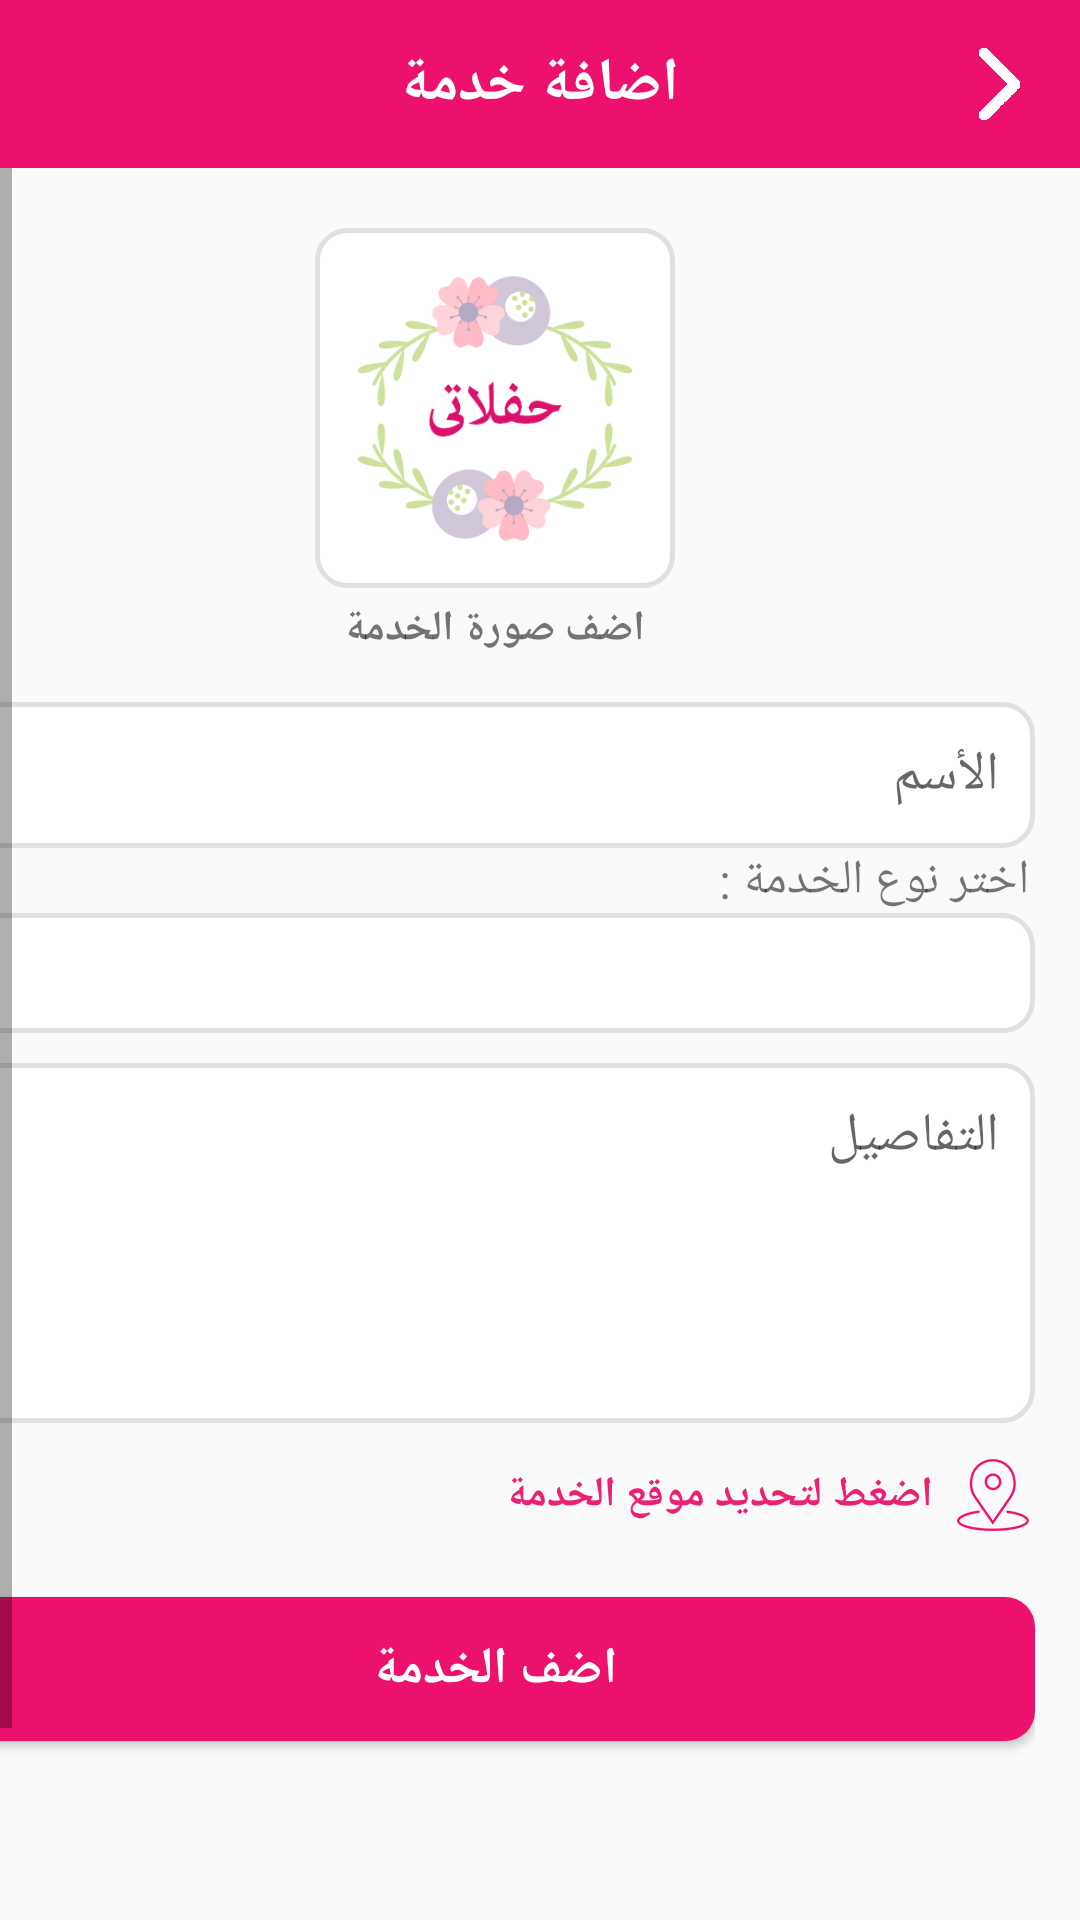

Where to tap for icons on this 1080 x 1920 app screen, as (x,y):
arwo: (999,84)
location: (993,1495)
